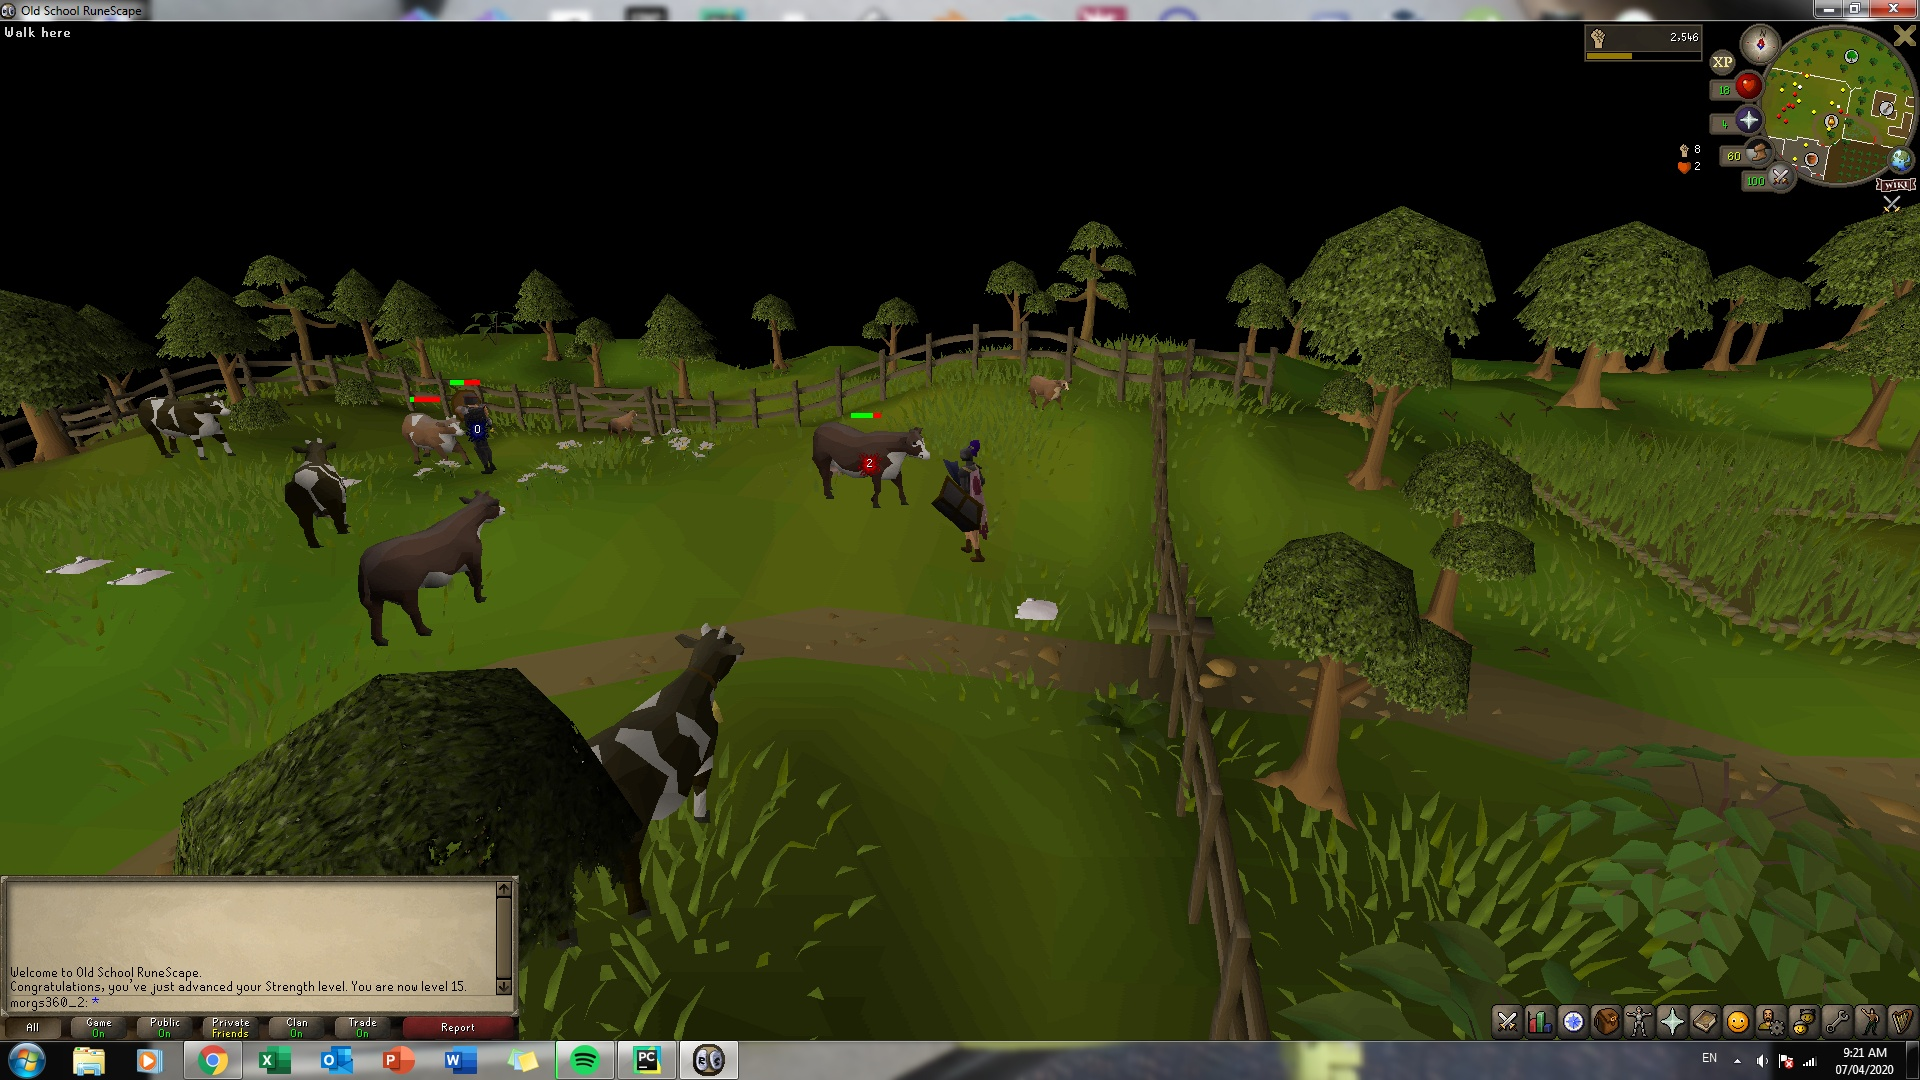cow: (356, 489, 506, 647), (810, 411, 932, 512), (280, 436, 356, 553), (135, 392, 235, 464), (1022, 375, 1075, 414)
cowhide: (100, 564, 175, 589), (46, 551, 113, 578), (1009, 592, 1060, 624)
